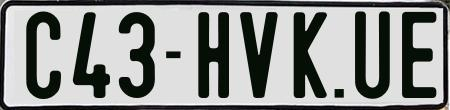3: (118, 11, 159, 97)
4: (70, 12, 111, 99)
C: (25, 8, 66, 102)
E: (400, 10, 434, 98)
H: (196, 9, 232, 95)
K: (293, 9, 327, 95)
U: (355, 9, 392, 103)
V: (239, 12, 277, 103)
